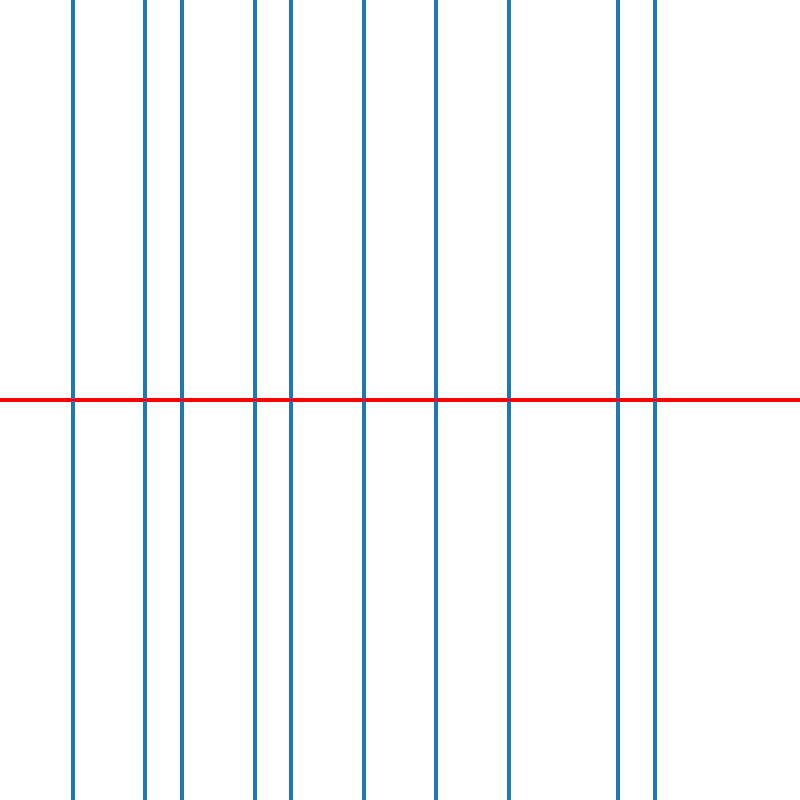root: (432, 396, 440, 404), (141, 396, 149, 404), (650, 396, 658, 404), (250, 396, 258, 404), (178, 396, 185, 404), (614, 396, 621, 404), (287, 396, 294, 404), (360, 396, 367, 404), (69, 396, 76, 404), (505, 396, 512, 404)
